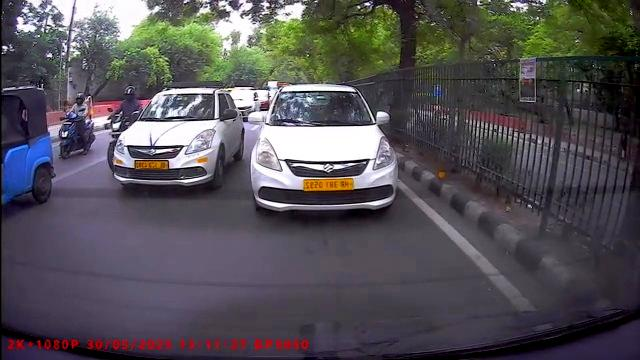motorcycle_with_helmet: (105, 84, 142, 168), (57, 92, 97, 159)
